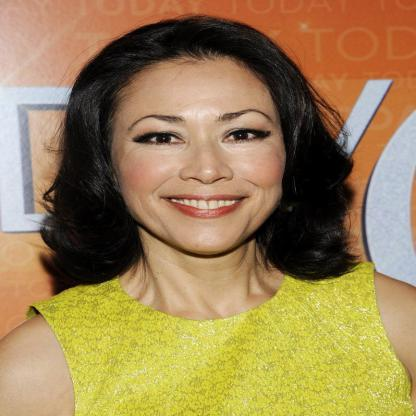long-hair: (21, 256, 359, 280)
